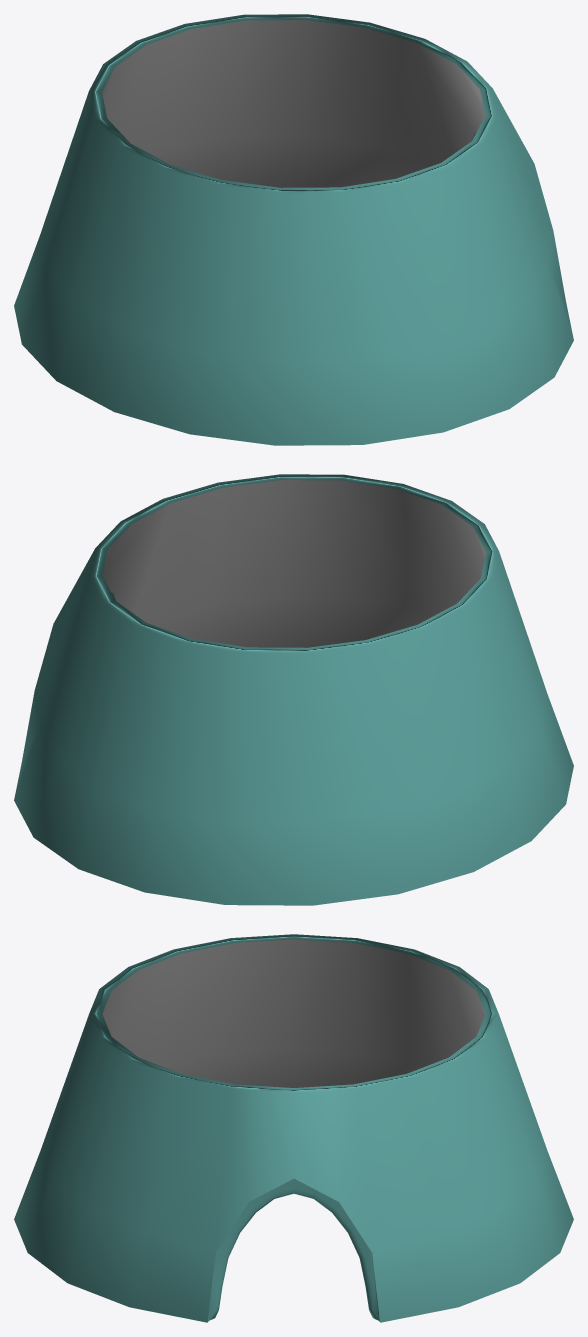
The model's file is Large_Carnival_Tent_Bottom.fbx.
3 views of the same model, one above another, from view 1: azimuth 30°, elevation 25°; view 2: azimuth 150°, elevation 25°; view 3: azimuth 270°, elevation 25° (orthographic). The views are drawn at different scales.
Parts seen in each view (by area): view 1: Bottom; view 2: Bottom; view 3: Bottom.
Part boxes in pixels (bbox=[...]): Bottom: bbox=[14, 14, 573, 445]; Bottom: bbox=[14, 474, 573, 905]; Bottom: bbox=[14, 934, 573, 1322].
Bounding box in the file's own units: 32.98 × 14.92 × 36.81.
